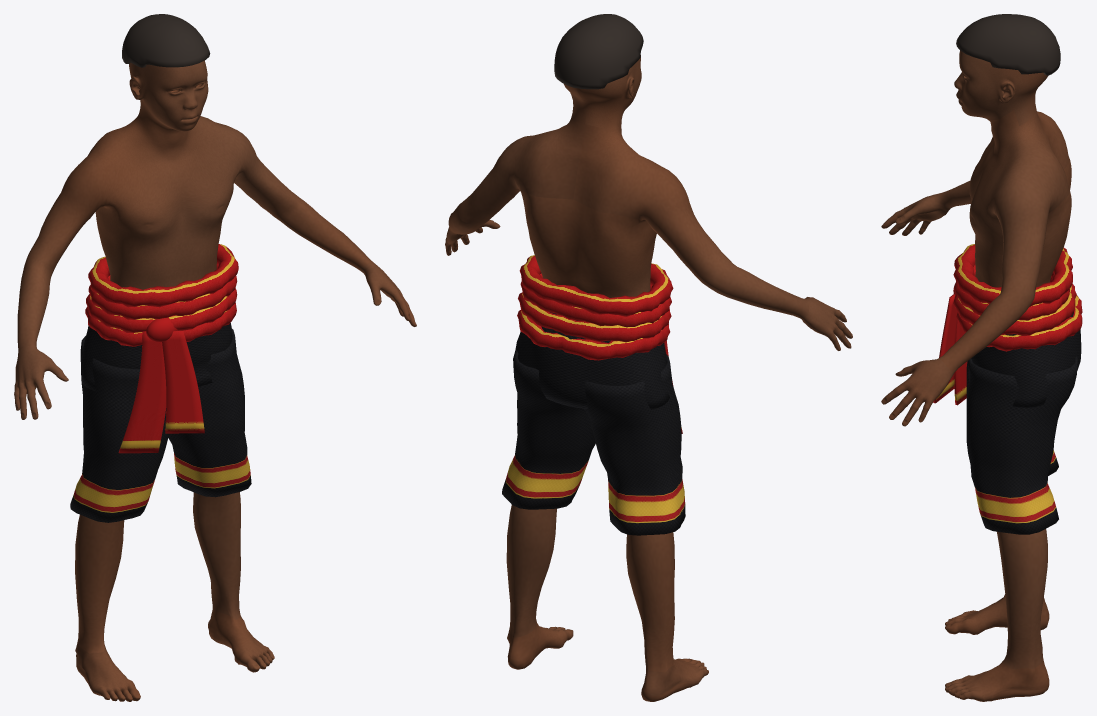
File: kalari_student.fbx
3 renders of one model, left to right at view 1: azimuth 30°, elevation 25°; view 2: azimuth 150°, elevation 25°; view 3: azimuth 270°, elevation 25°, orthographic.
Parts seen in each view (by area): view 1: Mixamo_kalari_student; view 2: Mixamo_kalari_student; view 3: Mixamo_kalari_student.
Boxes of the visible parts, box(x1,y1,x2,y2) form: Mixamo_kalari_student: box(14, 14, 416, 701); Mixamo_kalari_student: box(445, 14, 852, 701); Mixamo_kalari_student: box(881, 14, 1082, 701).
Size of the model in its own units: 0.8956 by 1.41 by 0.3973.
Materials: 4 (3 with a texture image).
